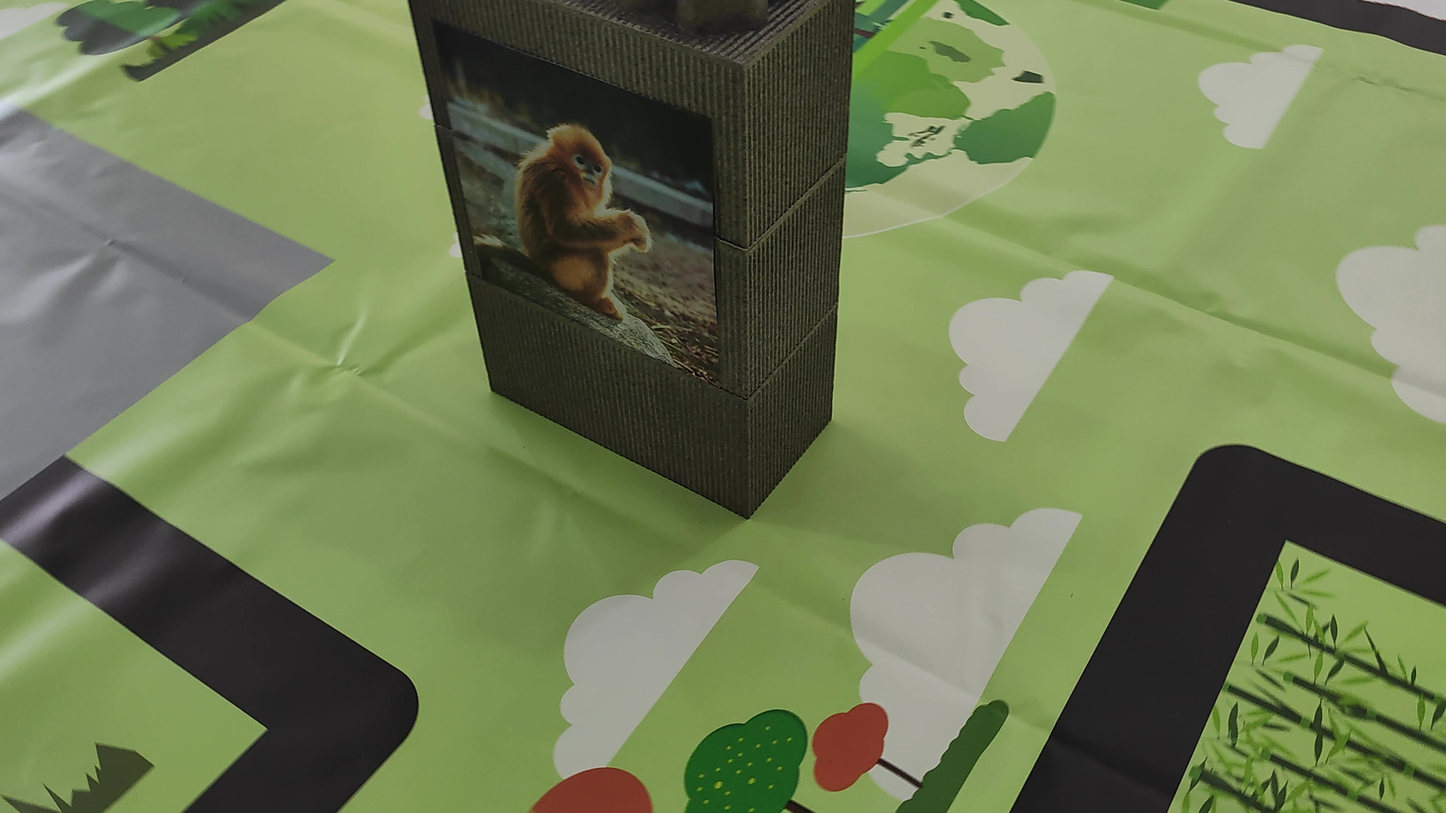monkey: (485, 98, 682, 332)
